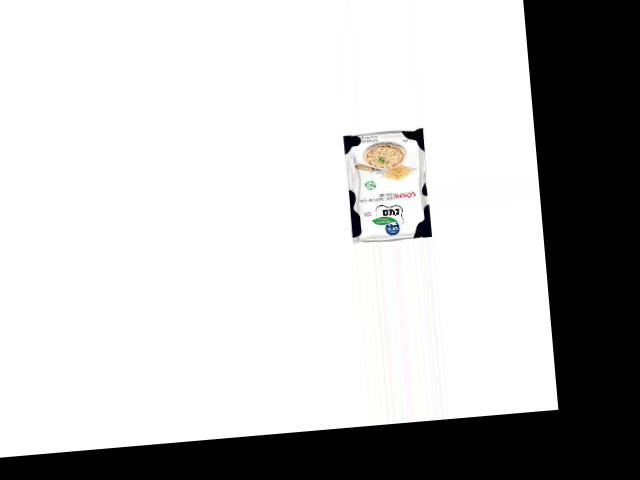cheese: (341, 125, 434, 244)
